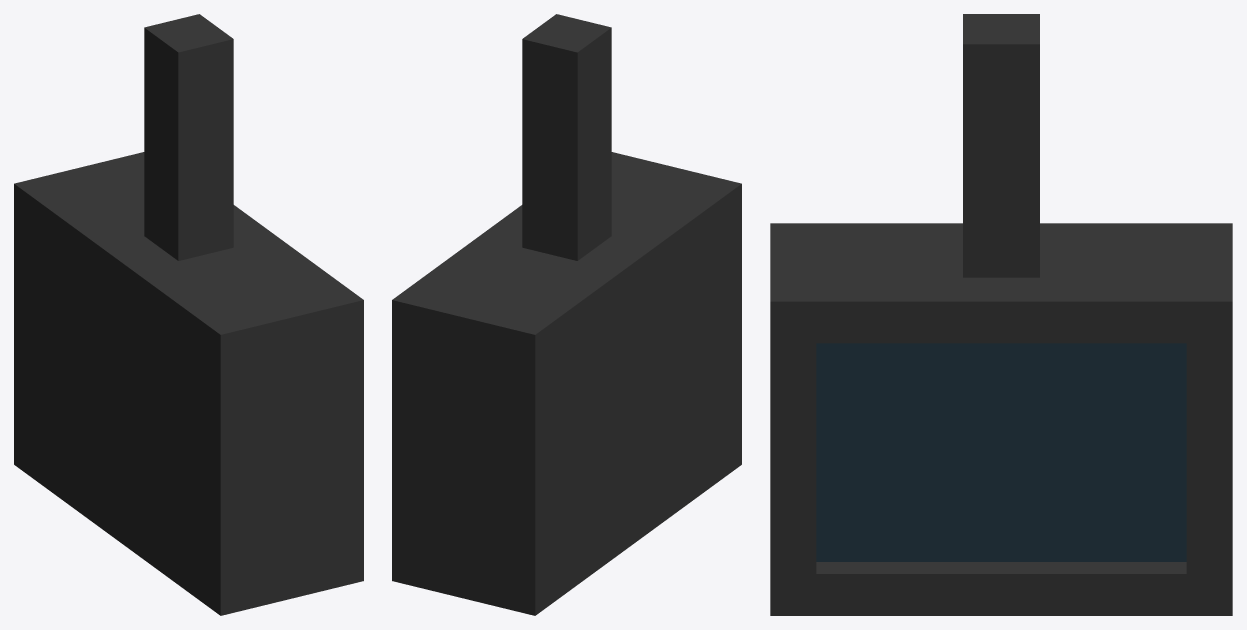
Rendered from Scoreboard.fbx.
3 renders of one model, left to right at view 1: azimuth 30°, elevation 25°; view 2: azimuth 150°, elevation 25°; view 3: azimuth 270°, elevation 25°, orthographic. The views are drawn at different scales.
Parts seen in each view (by area): view 1: Cube; view 2: Cube; view 3: Cube.
Boxes of the visible parts, x1,y1,x2,y2 form: Cube: [14, 14, 363, 615]; Cube: [392, 14, 741, 615]; Cube: [770, 14, 1232, 615].
Bounding box in the file's own units: 16 × 52.26 × 40.
